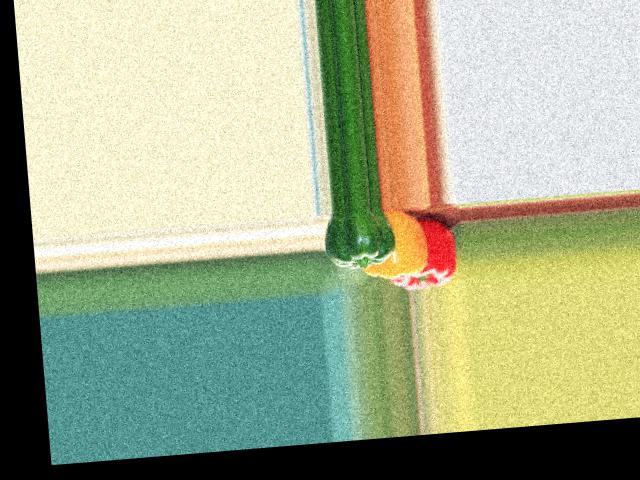bell_pepper: (384, 207, 457, 291)
